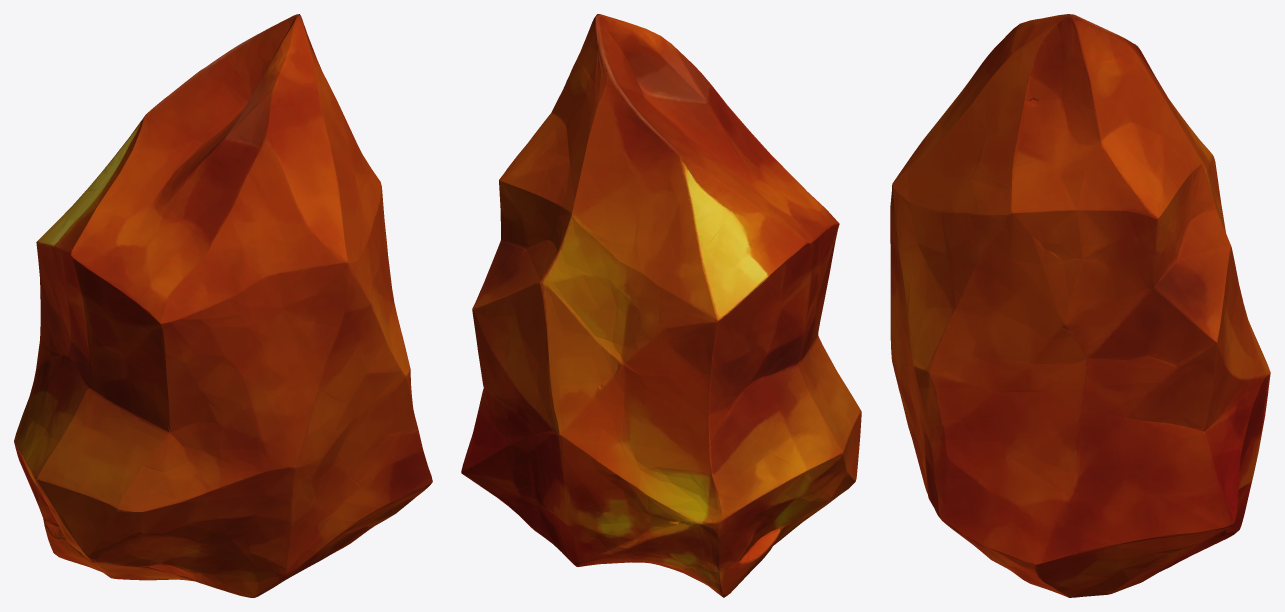
The model's file is amber_shard.glb.
3 renders of one model, left to right at view 1: azimuth 30°, elevation 25°; view 2: azimuth 150°, elevation 25°; view 3: azimuth 270°, elevation 25°, orthographic. The views are drawn at different scales.
Parts seen in each view (by area): view 1: world; view 2: world; view 3: world.
Boxes of the visible parts, box(x1,y1,x2,y2) form: world: box(14, 14, 432, 597); world: box(461, 14, 861, 597); world: box(890, 14, 1270, 597).
Bounding box in the file's own units: 0.7006 × 0.9983 × 0.6065.
1 material, 1 textured.
